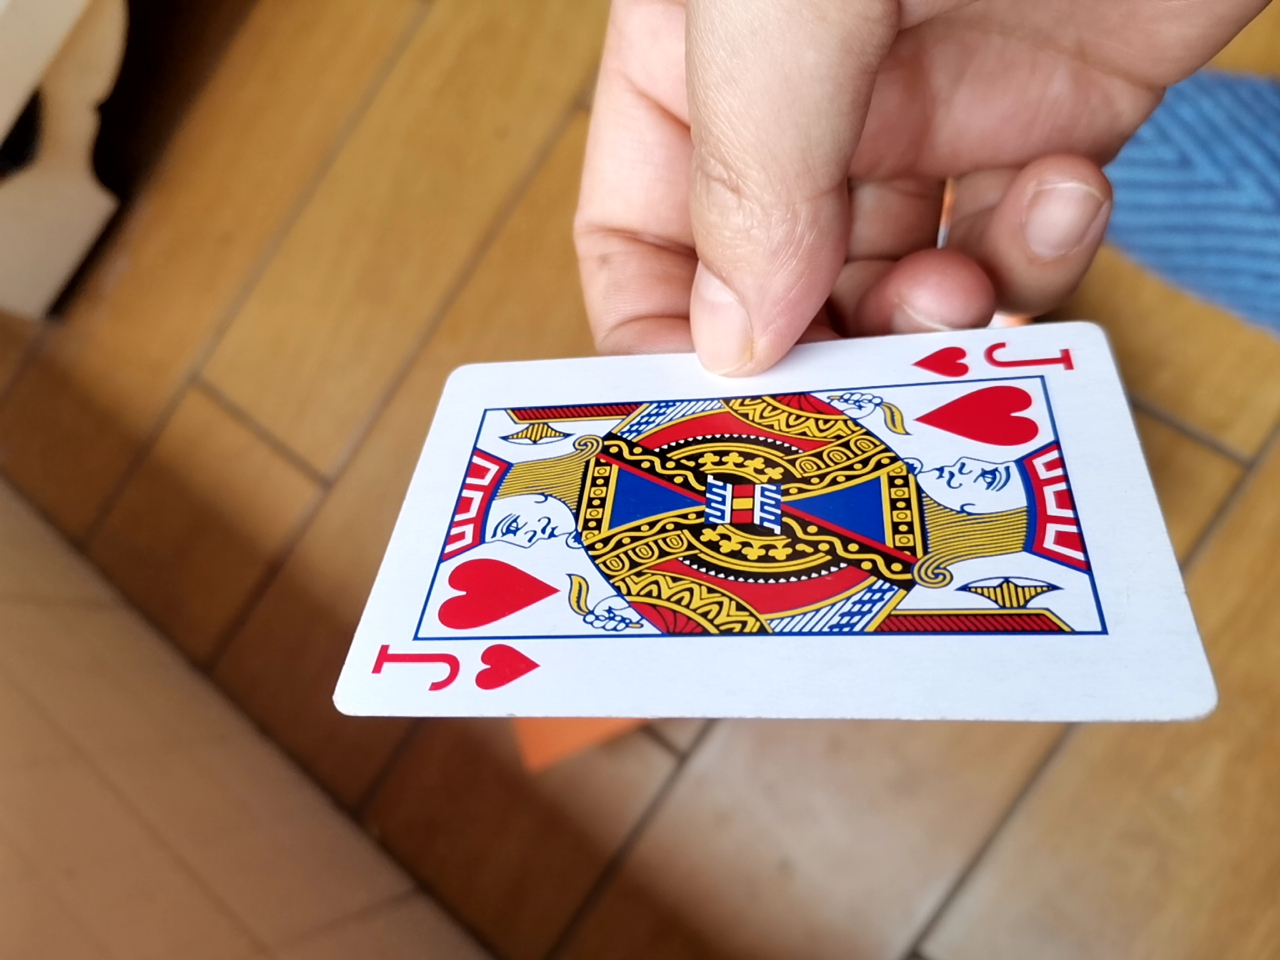hx j: (306, 322, 1208, 729)
